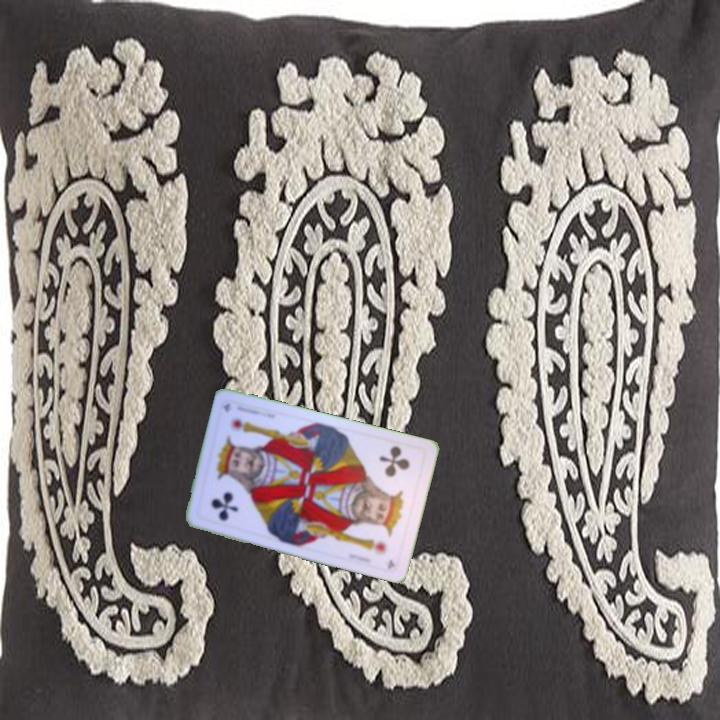c_k.png: (193, 457, 265, 535), (357, 435, 428, 513)
